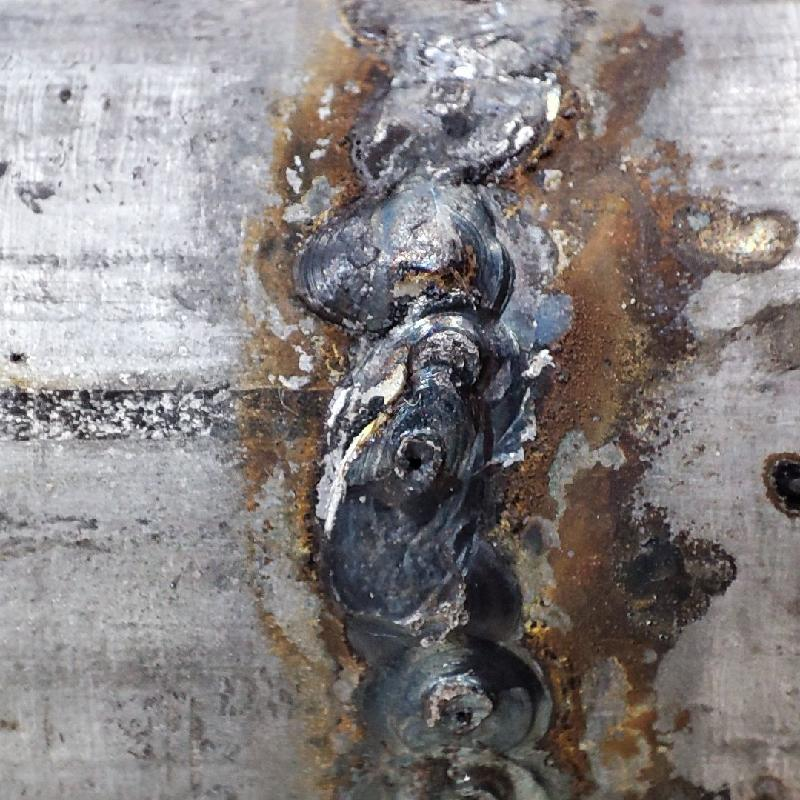Surface_pores: (385, 420, 448, 493)
